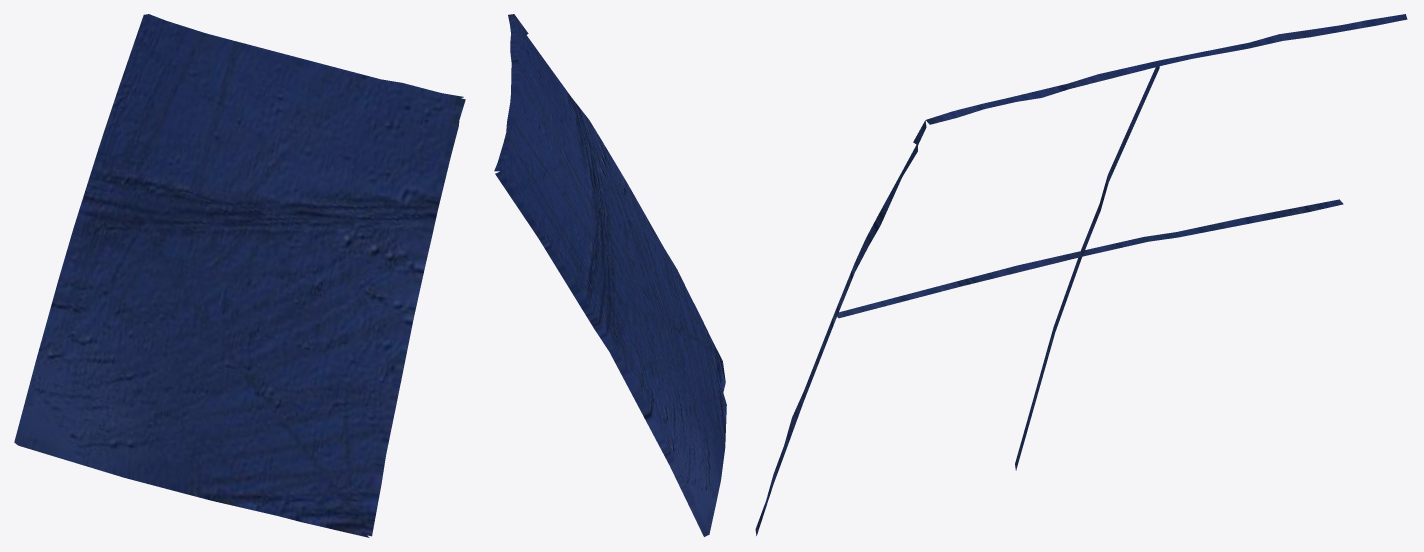
3 renders of one model, left to right at view 1: azimuth 30°, elevation 25°; view 2: azimuth 150°, elevation 25°; view 3: azimuth 270°, elevation 25°, orthographic. The views are drawn at different scales.
Size of the model in its own units: 1055703 by 1119027 by 1261150.
Materials: 1 (1 with a texture image).
